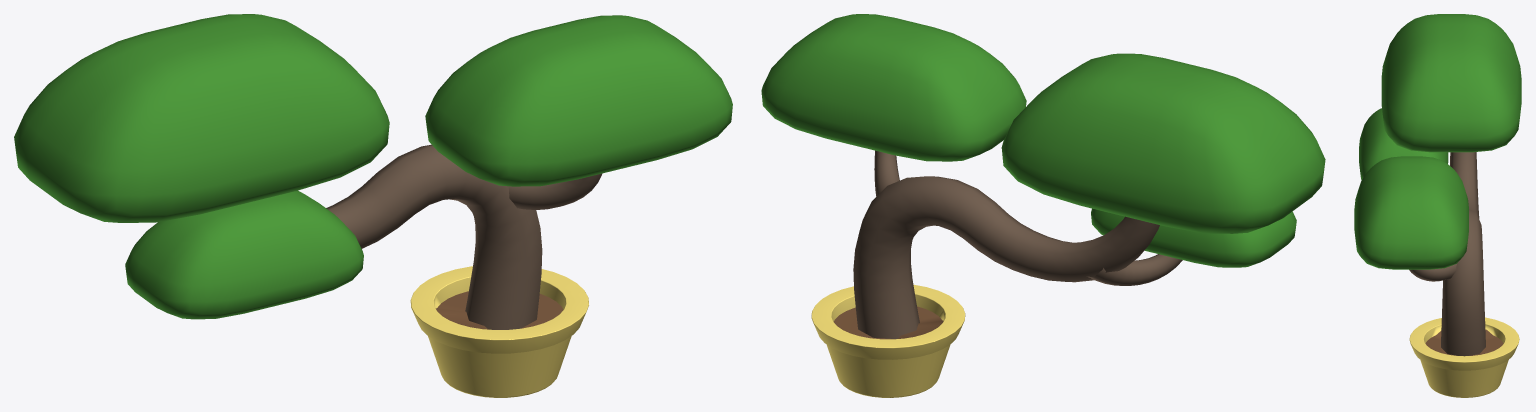
The model's file is Vase_4.glb.
The picture shows the model from 3 angles, left to right: view 1: azimuth 30°, elevation 25°; view 2: azimuth 150°, elevation 25°; view 3: azimuth 270°, elevation 25°; orthographic projection. The views are drawn at different scales.
Visible parts, largest first — view 1: Tree_1; view 2: Tree_1; view 3: Tree_1.
Part boxes in pixels (x1,y1,x2,y2): Tree_1: (14, 14, 732, 397); Tree_1: (761, 14, 1325, 397); Tree_1: (1354, 14, 1521, 397).
Size of the model in its own units: 5.55 by 3.5 by 2.05.
Materials: 1 (1 with a texture image).
